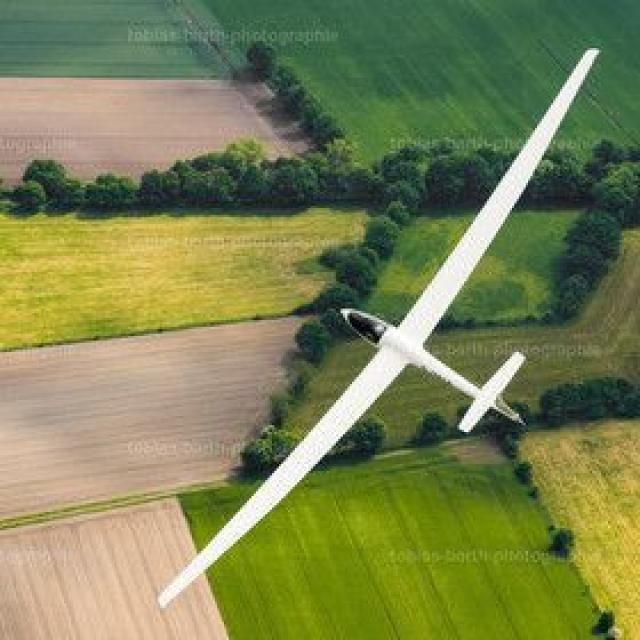iha: (158, 38, 606, 608)
